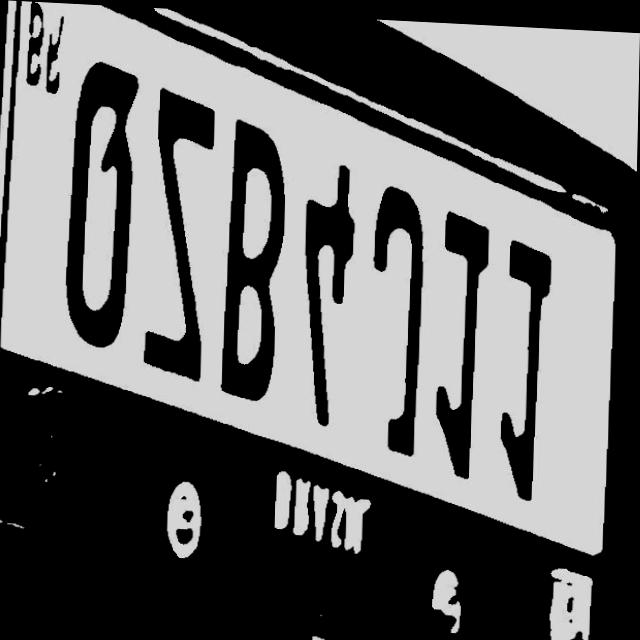1: (435, 204, 502, 481), (495, 230, 560, 504)
4: (294, 153, 365, 432)
b: (214, 107, 296, 413)
j: (356, 152, 435, 457)
q: (63, 56, 141, 348)
z: (141, 82, 227, 388)
